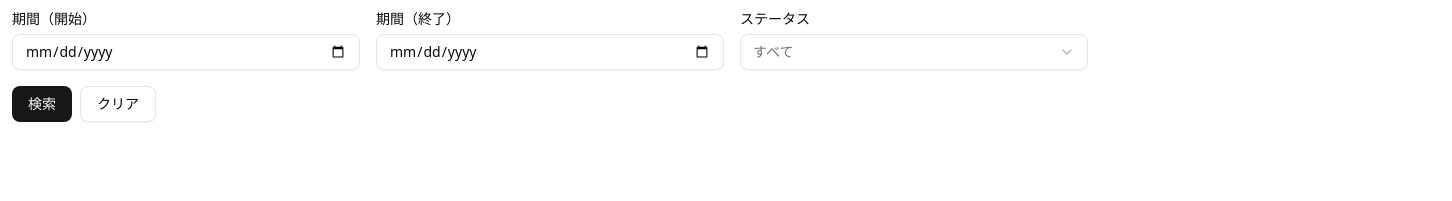
Test: ReportFilters - 期間整合性チェック › 開始日が終了日より後の場合、エラーメッセージが表示される
In the date field labelled "期間（開始）": (186, 52) x1=12 y1=34 x2=360 y2=70, type "2024-01-31"
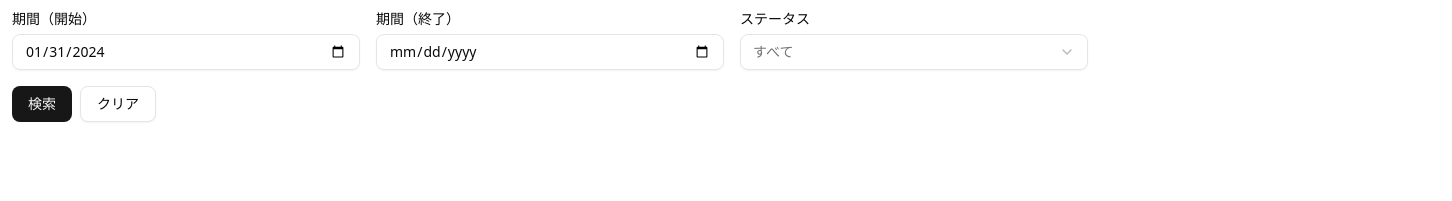
In the date field labelled "期間（終了）": (550, 52) x1=376 y1=34 x2=724 y2=70, type "2024-01-01"
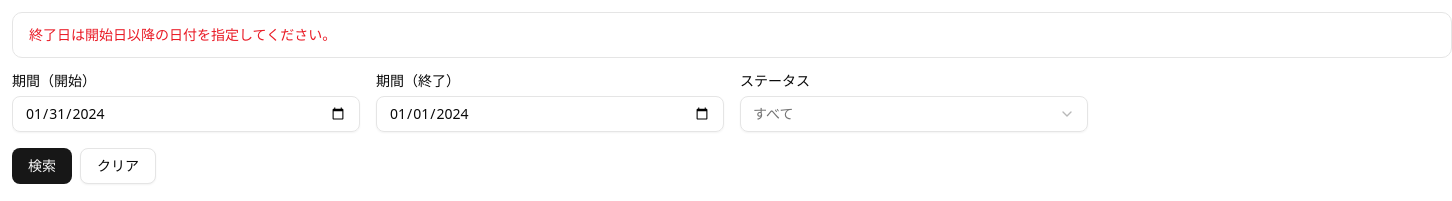
Expected: the text "終了日は開始日以降の日付を指定してください。" is shown, x1=29 y1=25 x2=336 y2=44
